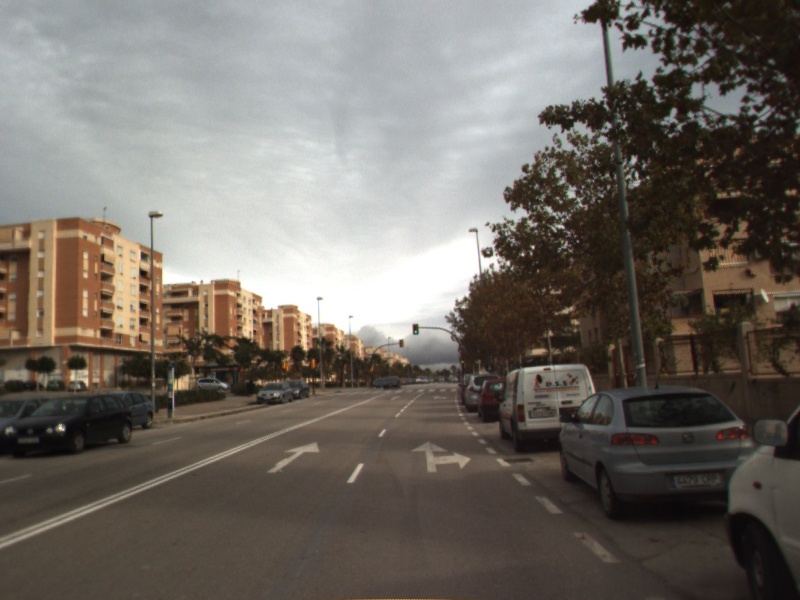STRAIGHT: (264, 439, 322, 475)
STRAIGHT_RIGHT: (408, 439, 473, 475)
